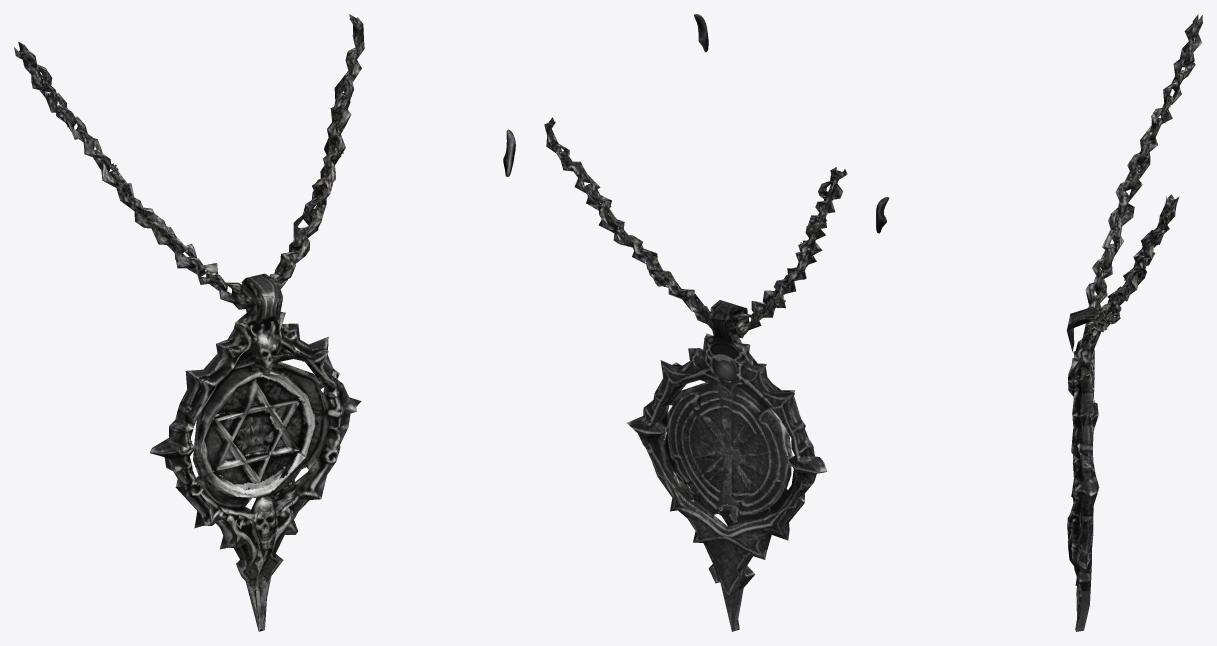
The model's file is medallion_necklace_LOD2.glb.
3 renders of one model, left to right at view 1: azimuth 30°, elevation 25°; view 2: azimuth 150°, elevation 25°; view 3: azimuth 270°, elevation 25°, orthographic. The views are drawn at different scales.
Visible parts, largest first — view 1: medallion_necklace_LOD2; view 2: medallion_necklace_LOD2; view 3: medallion_necklace_LOD2.
Boxes of the visible parts, x1=… form: medallion_necklace_LOD2: x1=14, y1=14, x2=515, y2=631; medallion_necklace_LOD2: x1=544, y1=14, x2=847, y2=631; medallion_necklace_LOD2: x1=876, y1=14, x2=1202, y2=631.
Bounding box in the file's own units: 0.2694 × 0.4494 × 0.2479.
1 material, 1 textured.
